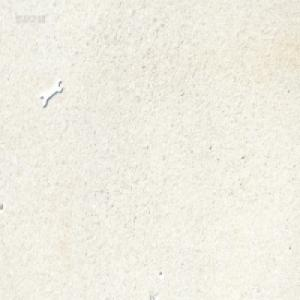Wrench: (40, 77, 63, 109)
